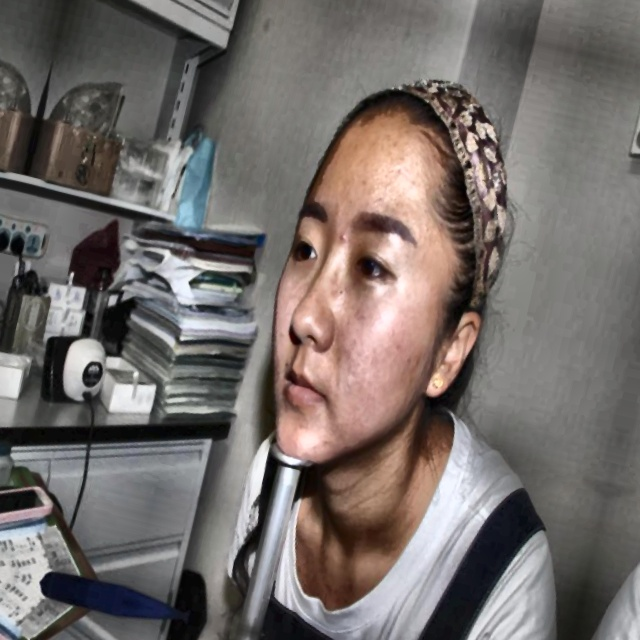comedone: (401, 342, 427, 379), (335, 224, 353, 247)
